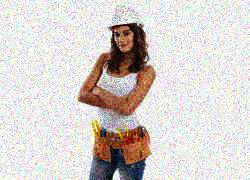helmet: (105, 3, 145, 53)
